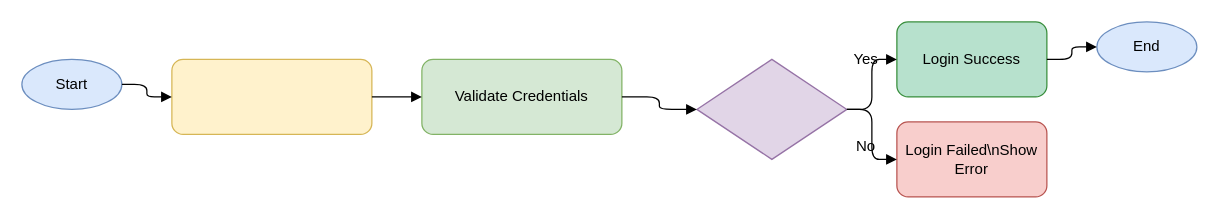
Some shapes in this 1219 by 219 pixel diagram are drawn without their labels. Here are the shapes that lost their labels. From the top down, the box of each, then its label:
(171, 58, 372, 134): Input Username/Password
(696, 58, 847, 159): Are credentials valid?
